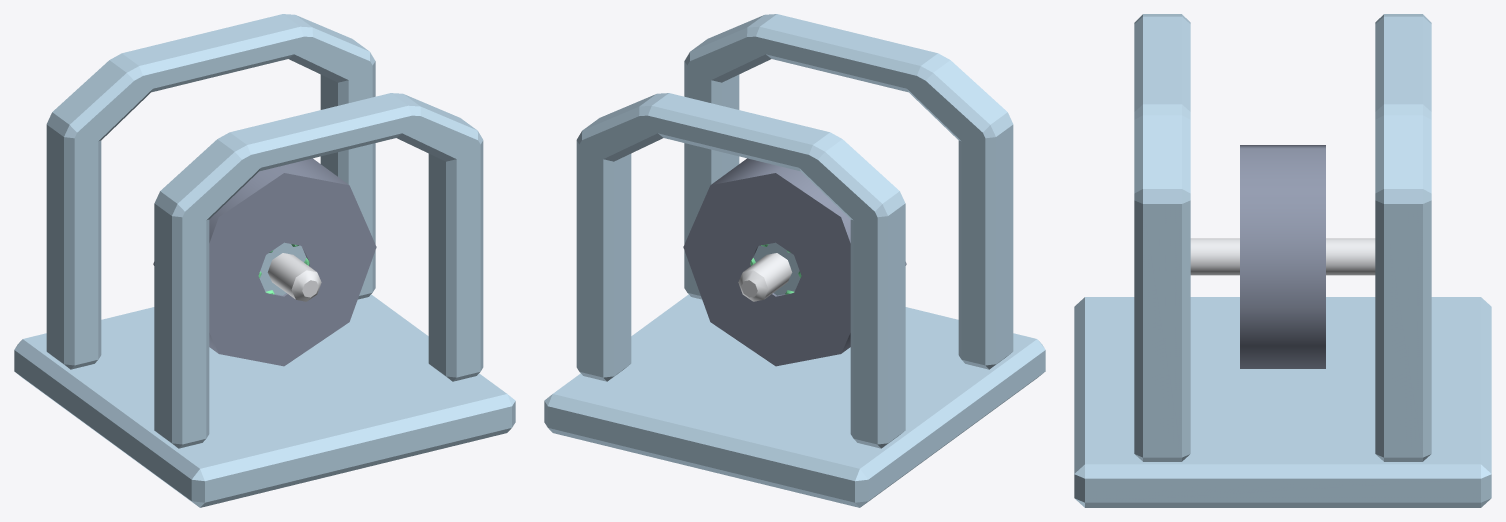
The model's file is R4X_MovementDurabilityBooster_LOD1.glb.
3 renders of one model, left to right at view 1: azimuth 30°, elevation 25°; view 2: azimuth 150°, elevation 25°; view 3: azimuth 270°, elevation 25°, orthographic. The views are drawn at different scales.
Visible parts, largest first — view 1: R4X_MovementDurabilityBooster_LOD1; view 2: R4X_MovementDurabilityBooster_LOD1; view 3: R4X_MovementDurabilityBooster_LOD1.
Part boxes in pixels (left/top/right/bottom): R4X_MovementDurabilityBooster_LOD1: left=14, top=14, right=515, bottom=507; R4X_MovementDurabilityBooster_LOD1: left=544, top=14, right=1045, bottom=507; R4X_MovementDurabilityBooster_LOD1: left=1074, top=14, right=1491, bottom=507.
Size of the model in its own units: 0.52 by 0.5 by 0.52.
